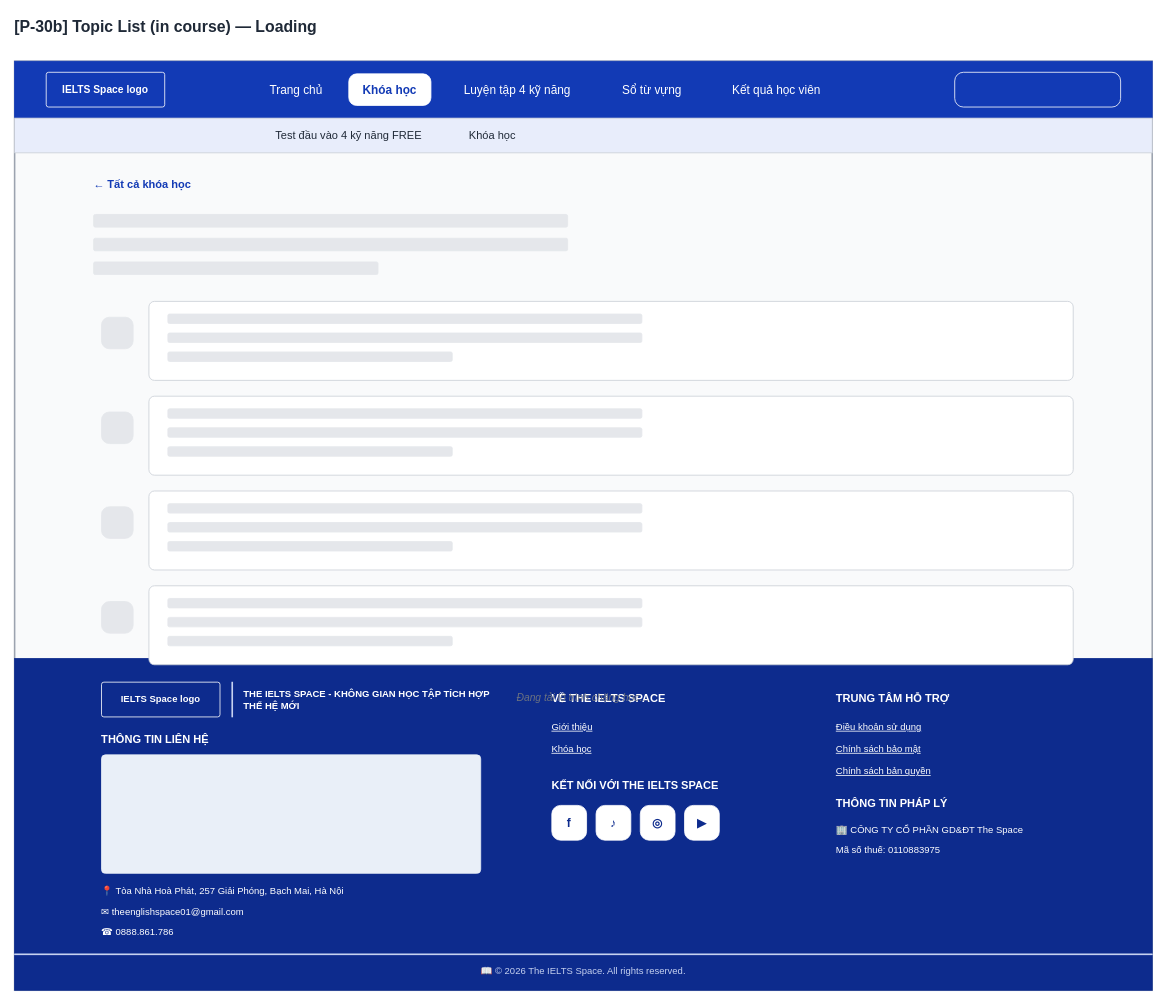
This 1166x1004 diagram has some shape labels left out. Each missing label, with the centre of its shape:
"◯ Học viên · 30 Points ▾" belongs at [1037,89].
"📍 The IELTS Space Mở trong Maps ↗" belongs at [291,813].
